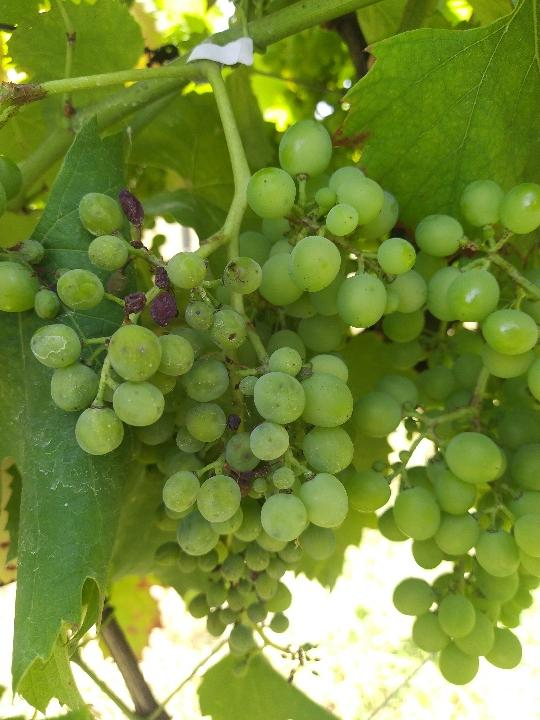grape: (29, 116, 427, 566)
